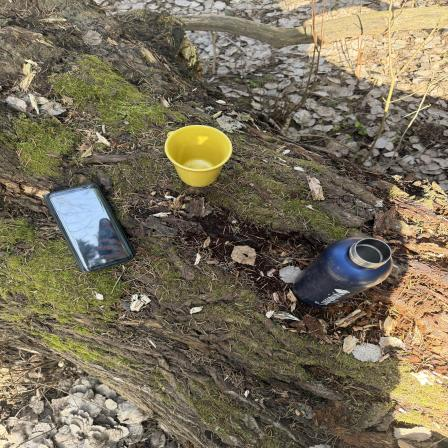blue_bottle: (295, 232, 395, 310)
phone: (43, 184, 141, 277)
yellow_cup: (165, 125, 233, 189)
